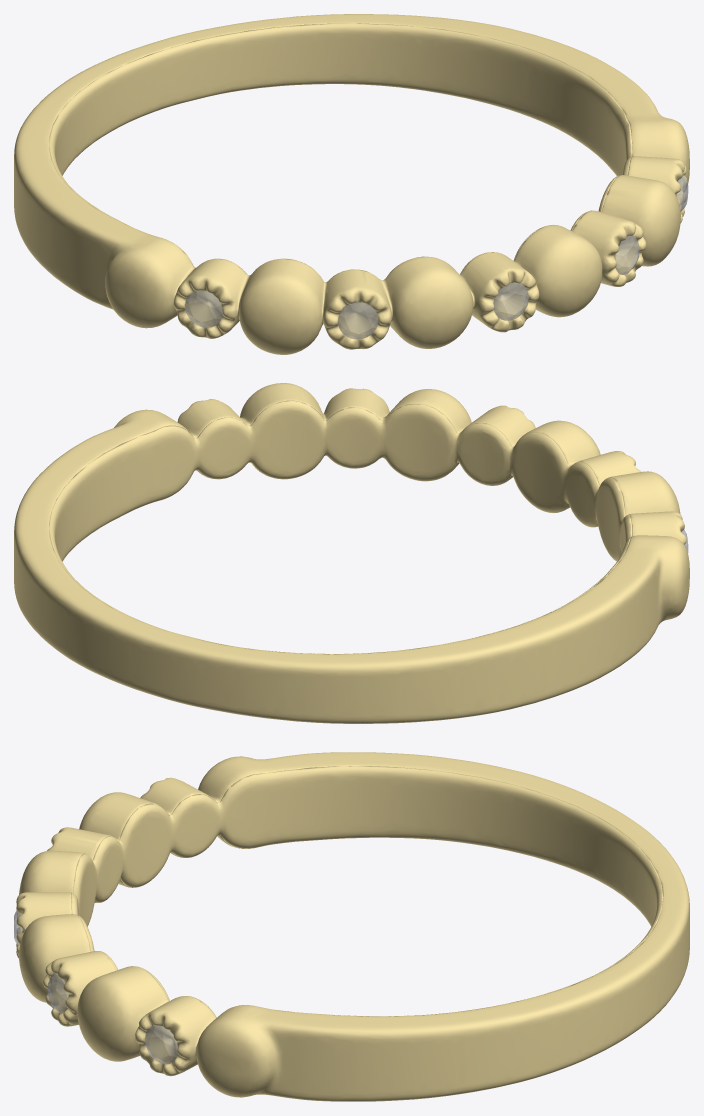
The picture shows the model from 3 angles, top to bottom: view 1: azimuth 30°, elevation 25°; view 2: azimuth 150°, elevation 25°; view 3: azimuth 270°, elevation 25°; orthographic projection.
Visible parts, largest first — view 1: Base_Metal, Engraving_Mesh, Diamond_Mesh; view 2: Base_Metal, Engraving_Mesh; view 3: Base_Metal, Engraving_Mesh, Diamond_Mesh.
Boxes of the visible parts, box(x1,y1,x2,y2) form: Base_Metal: box(14, 14, 689, 354); Engraving_Mesh: box(49, 23, 632, 274); Diamond_Mesh: box(185, 174, 688, 339); Base_Metal: box(14, 383, 689, 723); Engraving_Mesh: box(49, 400, 631, 654); Base_Metal: box(16, 752, 689, 1101); Engraving_Mesh: box(71, 766, 663, 1017); Diamond_Mesh: box(14, 911, 177, 1064).
Bounding box in the file's own units: 1.63 × 0.2147 × 1.63.
